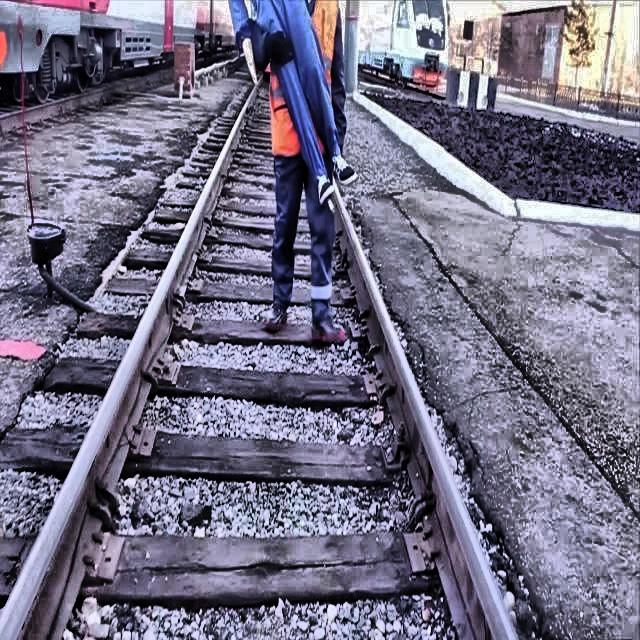safety_jacket: (270, 0, 340, 159)
